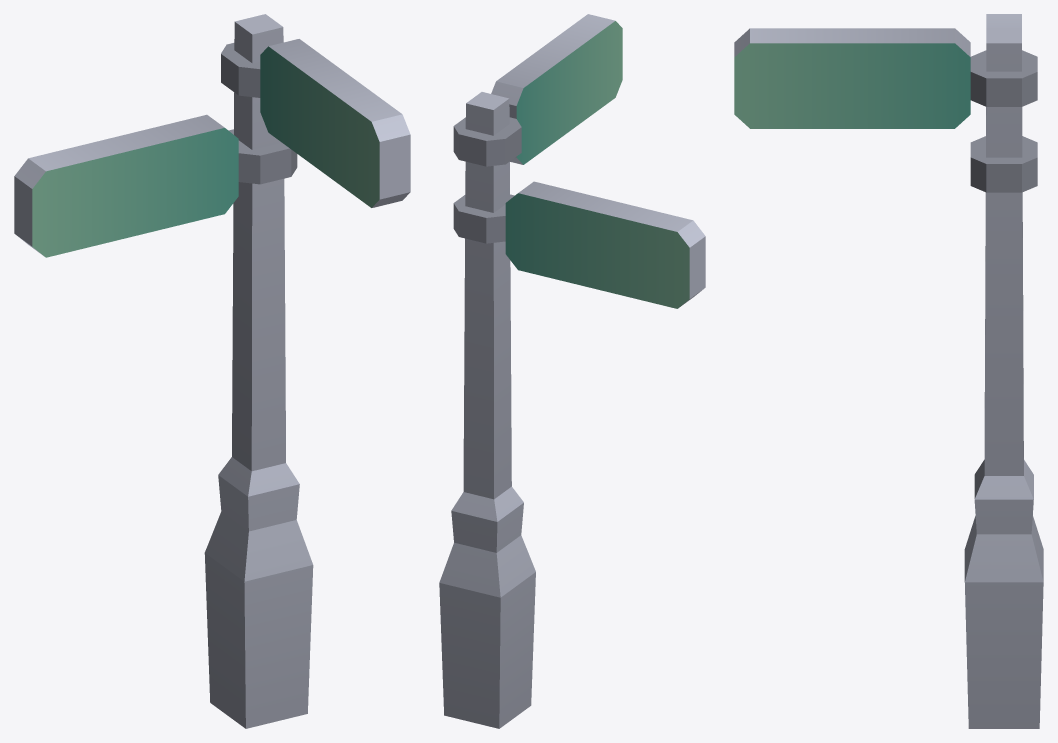
Rendered from sign_post.glb.
3 views of the same model, side by side, from view 1: azimuth 30°, elevation 25°; view 2: azimuth 150°, elevation 25°; view 3: azimuth 270°, elevation 25° (orthographic). The views are drawn at different scales.
Parts seen in each view (by area): view 1: geometry_0; view 2: geometry_0; view 3: geometry_0.
Part boxes in pixels (<box>): geometry_0: <box>14,14,410,728</box>; geometry_0: <box>439,14,705,728</box>; geometry_0: <box>734,14,1043,728</box>.
Bounding box in the file's own units: 1.03 × 2.5 × 1.03.
